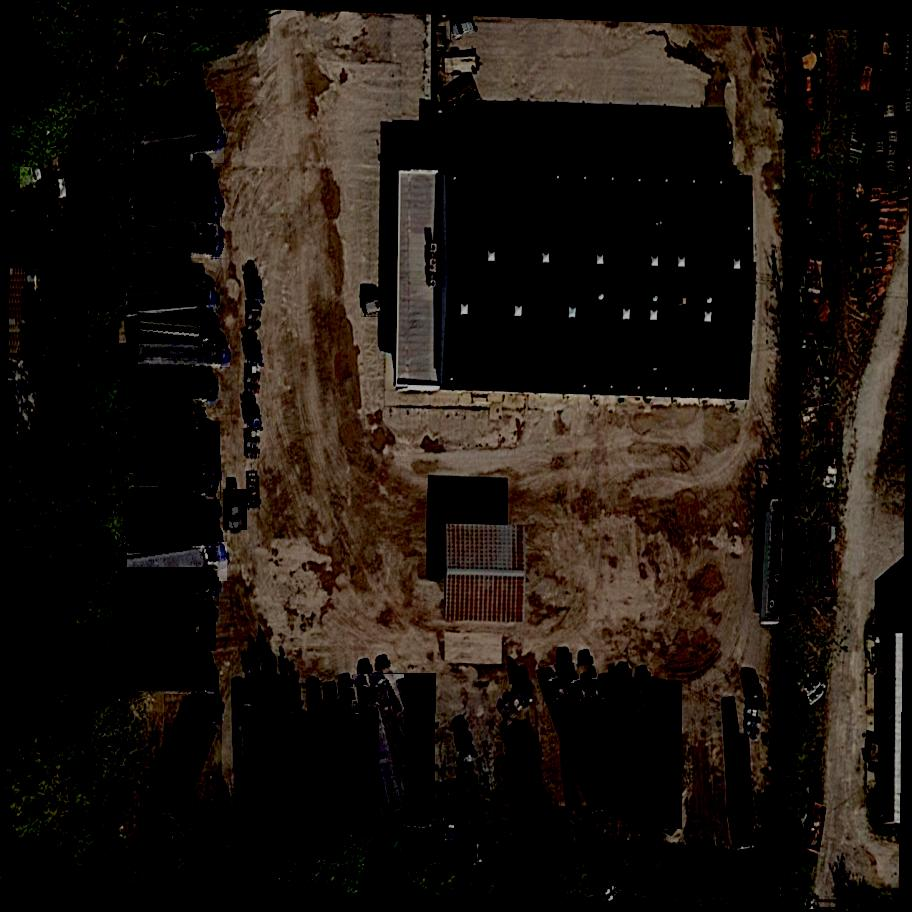large-vehicle: (357, 673, 438, 819), (537, 664, 610, 807), (562, 666, 629, 809), (627, 680, 683, 829), (163, 695, 225, 824), (352, 674, 406, 822), (313, 714, 381, 829), (115, 585, 218, 652), (107, 624, 203, 686), (614, 674, 654, 822), (116, 388, 206, 447), (342, 687, 379, 827), (122, 422, 221, 473), (233, 692, 264, 836), (309, 697, 343, 828), (128, 488, 220, 533), (127, 542, 230, 582), (129, 455, 222, 499), (403, 711, 437, 830), (123, 92, 219, 133), (126, 568, 221, 607), (131, 224, 226, 260), (131, 131, 227, 164), (130, 196, 222, 228), (126, 287, 217, 314), (130, 520, 219, 547), (114, 670, 219, 691), (131, 376, 218, 401), (128, 170, 218, 194), (136, 315, 218, 341), (138, 344, 230, 367), (126, 263, 203, 285)
small-vehicle: (223, 488, 248, 532), (18, 167, 47, 193), (362, 295, 393, 318), (451, 18, 478, 40), (437, 26, 447, 54)
